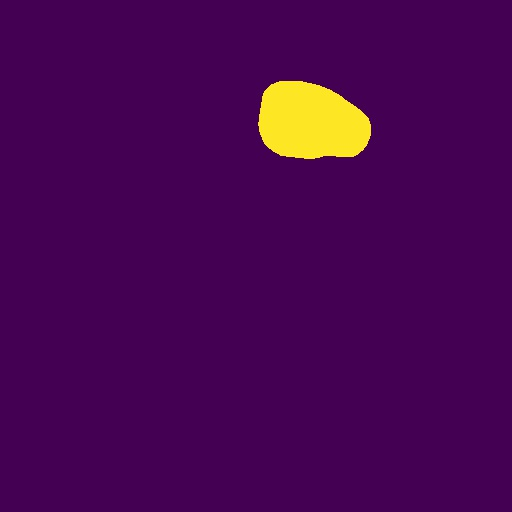Menigiomia_tumour: (258, 81, 371, 159)
